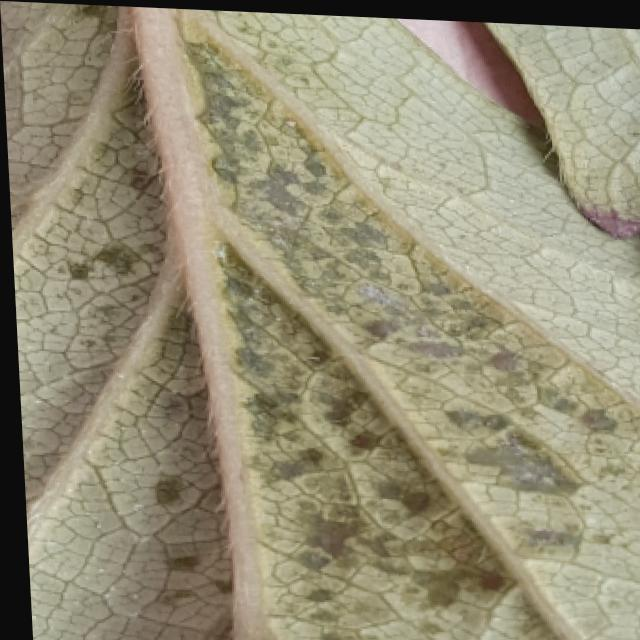Angular Leafspot: (6, 2, 640, 640)
